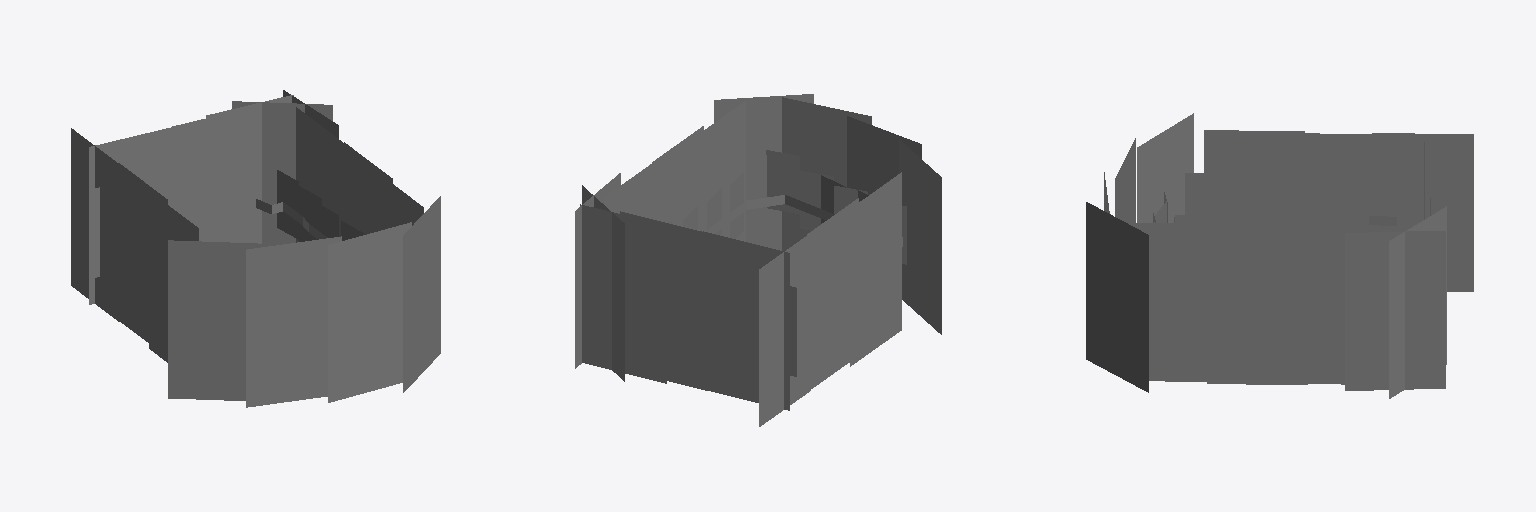
The model's file is trees.obj.
The picture shows the model from 3 angles: view 1: azimuth 30°, elevation 25°; view 2: azimuth 150°, elevation 25°; view 3: azimuth 270°, elevation 25°; orthographic projection.
Visible parts, largest first — view 1: Plane452, Plane451, Plane453, Plane448, Plane454, Plane449, Plane460, Plane462, Plane457, Plane450, Plane438, Plane461 (+10 smaller); view 2: Plane459, Plane461, Plane450, Plane448, Plane460, Plane449, Plane451, Plane453, Plane455, Plane454, Plane452, Plane456 (+9 smaller); view 3: Plane456, Plane458, Plane454, Plane455, Plane448, Plane457, Plane449, Plane451, Plane450, Plane462, Plane431, Plane429 (+3 smaller).
Boxes of the visible parts, x1=… form: Plane452: x1=246, y1=236, x2=341, y2=407; Plane451: x1=168, y1=240, x2=267, y2=400; Plane453: x1=328, y1=222, x2=411, y2=402; Plane448: x1=71, y1=128, x2=119, y2=321; Plane454: x1=403, y1=196, x2=440, y2=392; Plane449: x1=119, y1=163, x2=167, y2=342; Plane460: x1=172, y1=106, x2=259, y2=243; Plane462: x1=232, y1=101, x2=332, y2=245; Plane457: x1=296, y1=107, x2=345, y2=242; Plane450: x1=149, y1=191, x2=198, y2=362; Plane438: x1=198, y1=153, x2=246, y2=242; Plane461: x1=89, y1=126, x2=177, y2=304; Plane459: x1=580, y1=204, x2=666, y2=383; Plane461: x1=703, y1=231, x2=789, y2=410; Plane450: x1=850, y1=172, x2=901, y2=366; Plane448: x1=759, y1=233, x2=810, y2=426; Plane460: x1=620, y1=211, x2=706, y2=390; Plane449: x1=807, y1=198, x2=858, y2=388; Plane451: x1=899, y1=139, x2=941, y2=334; Plane453: x1=782, y1=97, x2=871, y2=251; Plane455: x1=695, y1=101, x2=745, y2=241; Plane454: x1=714, y1=94, x2=813, y2=250; Plane452: x1=847, y1=116, x2=921, y2=194; Plane456: x1=652, y1=126, x2=703, y2=226; Plane456: x1=1207, y1=226, x2=1307, y2=384; Plane458: x1=1345, y1=231, x2=1445, y2=390; Plane454: x1=1086, y1=202, x2=1148, y2=392; Plane455: x1=1134, y1=223, x2=1234, y2=381; Plane448: x1=1372, y1=133, x2=1473, y2=291; Plane457: x1=1302, y1=226, x2=1402, y2=384; Plane449: x1=1277, y1=133, x2=1377, y2=225; Plane451: x1=1137, y1=113, x2=1193, y2=222; Plane450: x1=1204, y1=130, x2=1304, y2=225; Plane462: x1=1389, y1=206, x2=1446, y2=398; Plane431: x1=1348, y1=173, x2=1404, y2=231; Plane429: x1=1259, y1=173, x2=1316, y2=226.
Size of the model in its own units: 134 by 77.31 by 171.